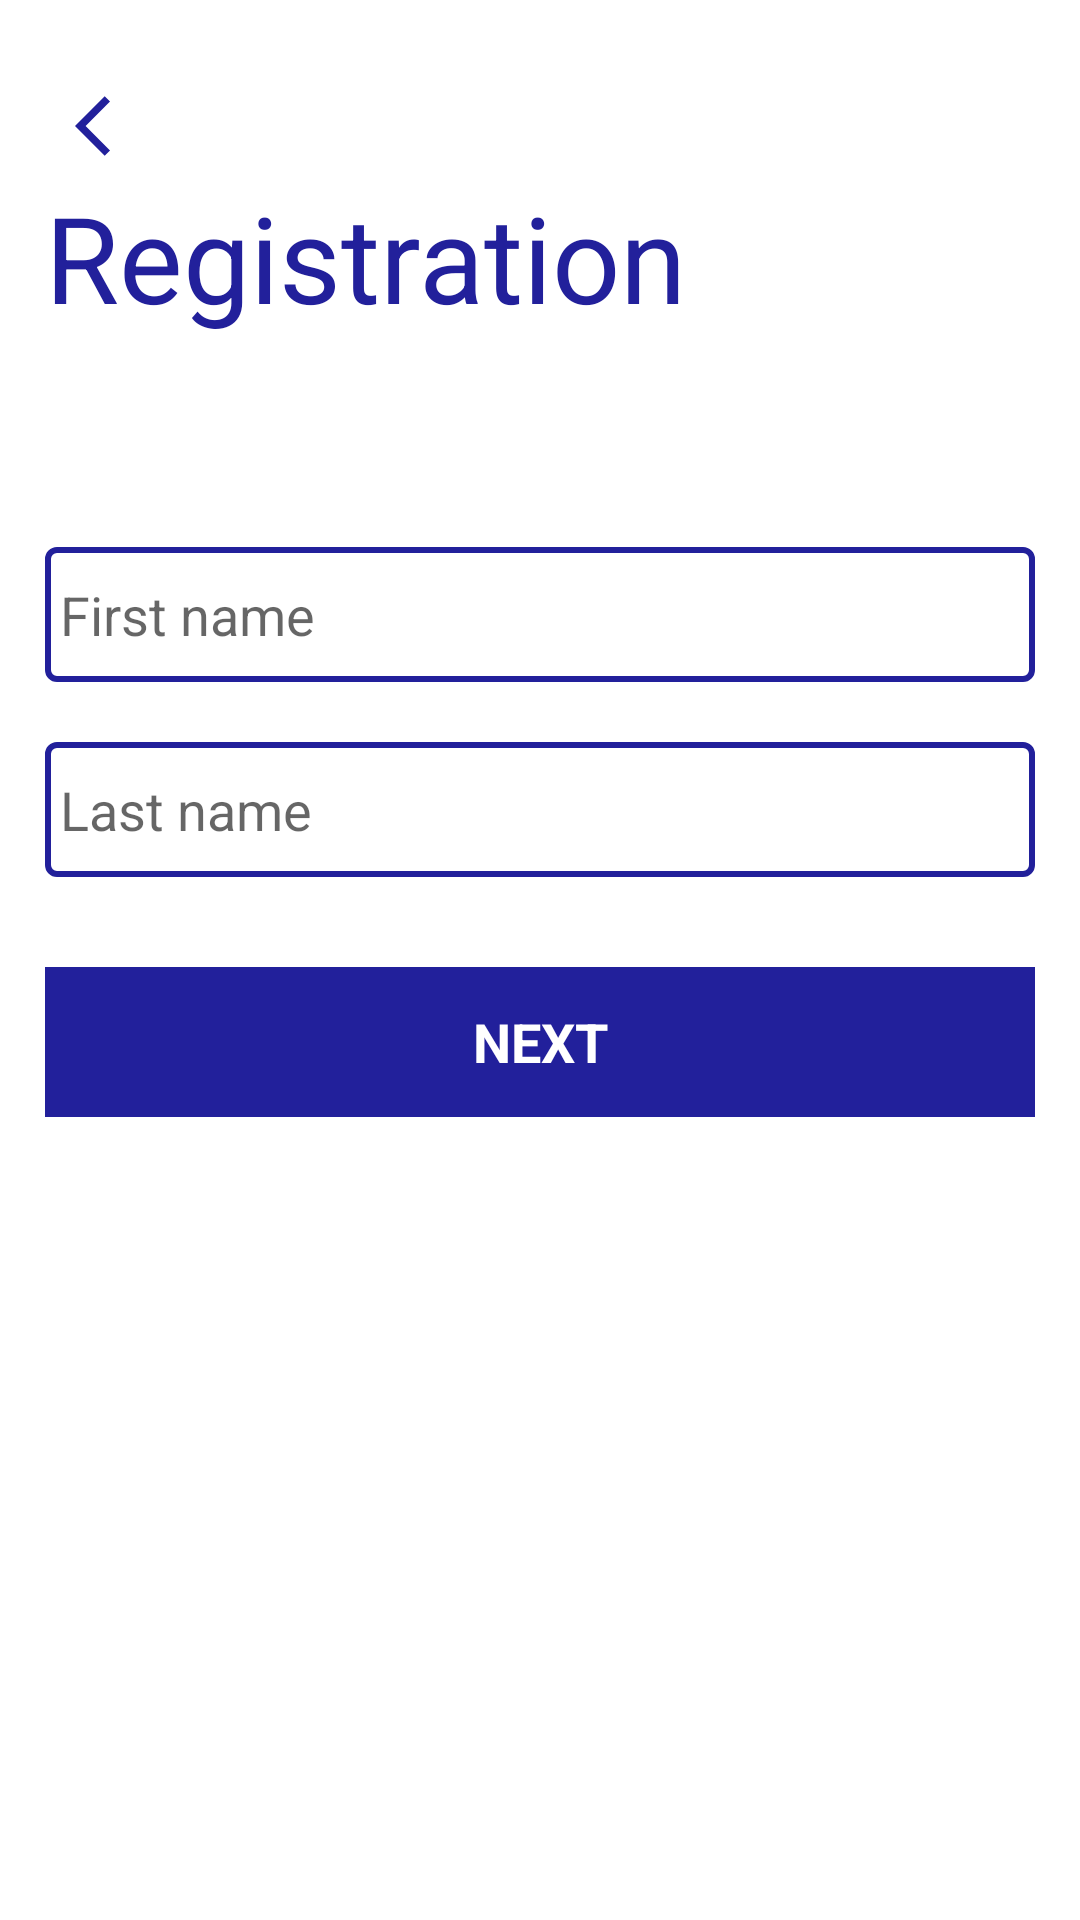

Icons on this 1080px x 1920px Android screen, each with the point to tap as (x=x, y=y):
arrow back: (x=92, y=126)
